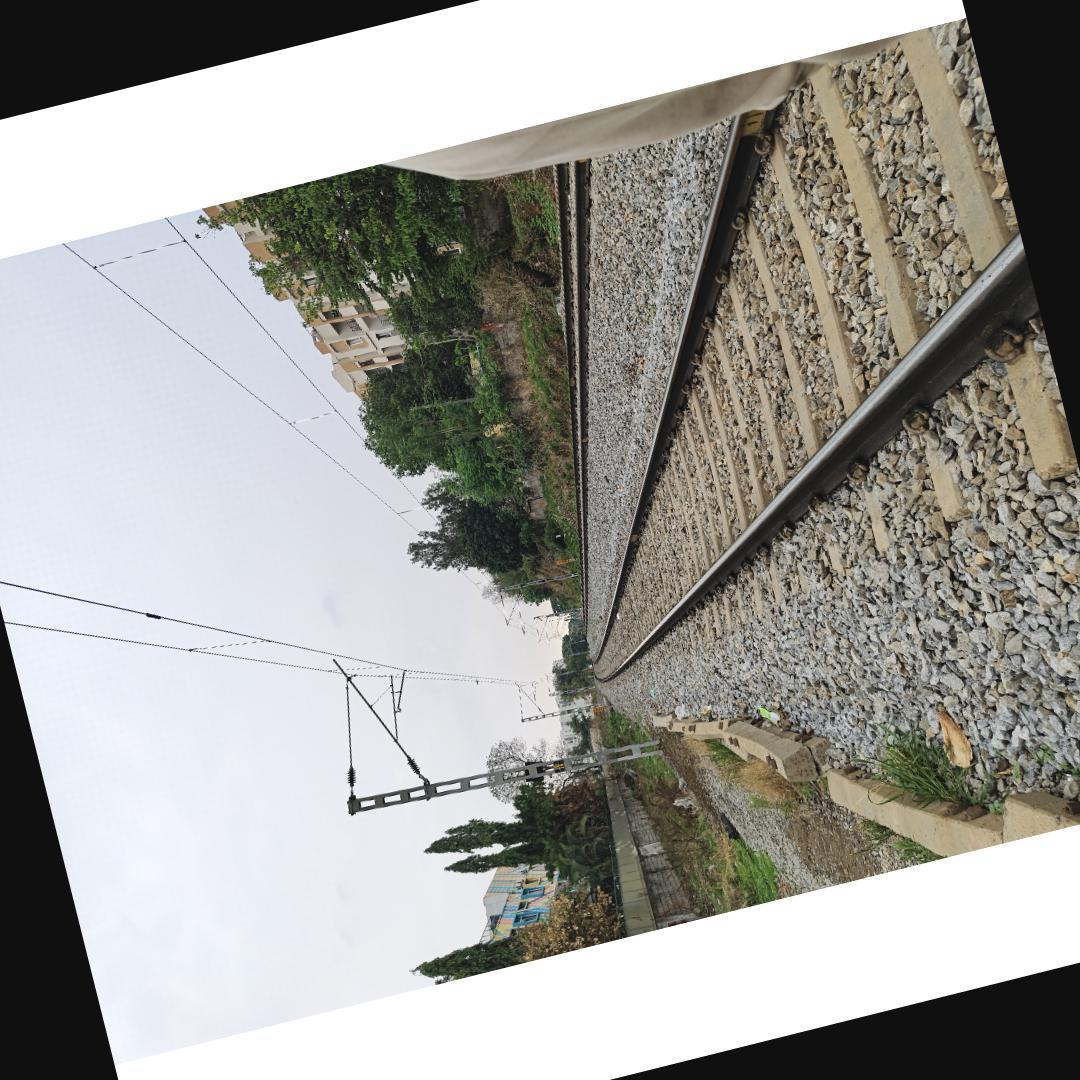track: (580, 16, 1078, 703)
